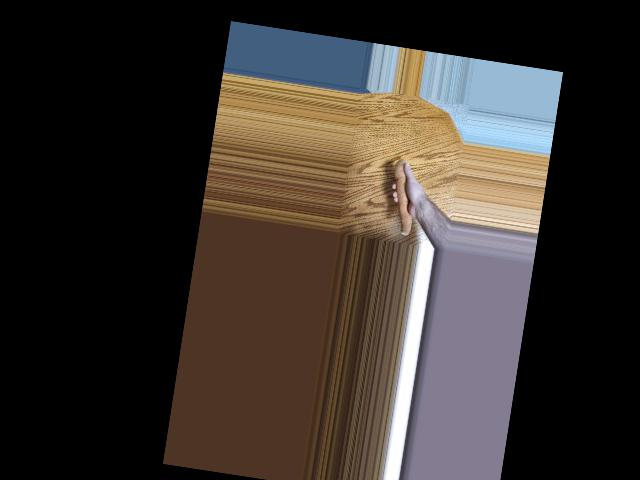sweet_potato: (384, 159, 422, 237)
